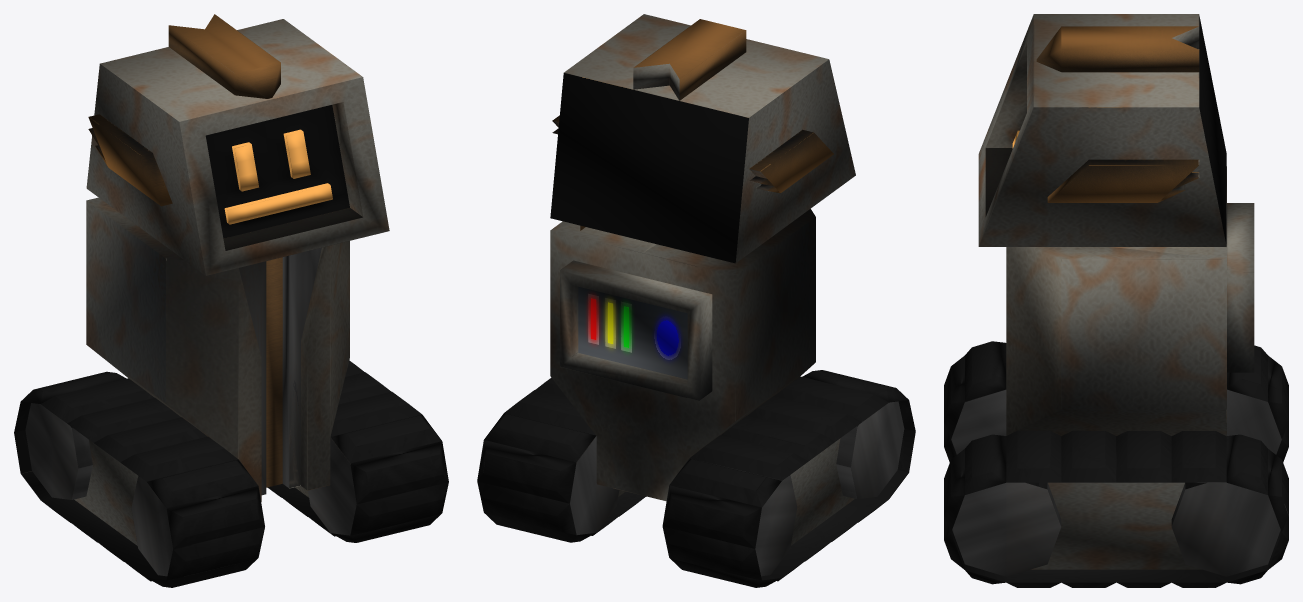
File: Robo1.fbx
The picture shows the model from 3 angles, left to right: view 1: azimuth 30°, elevation 25°; view 2: azimuth 150°, elevation 25°; view 3: azimuth 270°, elevation 25°; orthographic projection. The views are drawn at different scales.
Visible parts, largest first — view 1: Head, Tracks, Torso; view 2: Head, Torso, Tracks; view 3: Tracks, Head, Torso.
Boxes of the visible parts, <box> form: Head: <box>86,14,389,275</box>; Tracks: <box>14,360,448,587</box>; Torso: <box>86,197,349,501</box>; Head: <box>550,14,855,263</box>; Torso: <box>550,209,815,501</box>; Tracks: <box>477,370,915,587</box>; Tracks: <box>944,341,1288,587</box>; Head: <box>978,14,1226,246</box>; Torso: <box>1006,166,1254,436</box>.
Bounding box in the file's own units: 3 × 4.85 × 3.13.
Materials: 3 (3 with a texture image).
